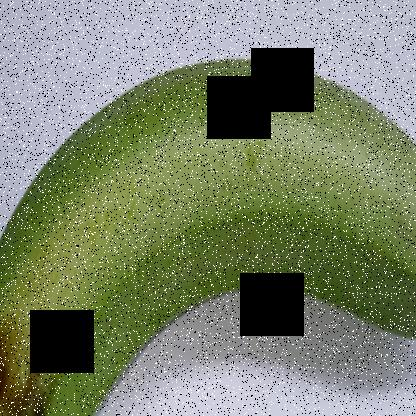freshunripe: (1, 37, 415, 415)
